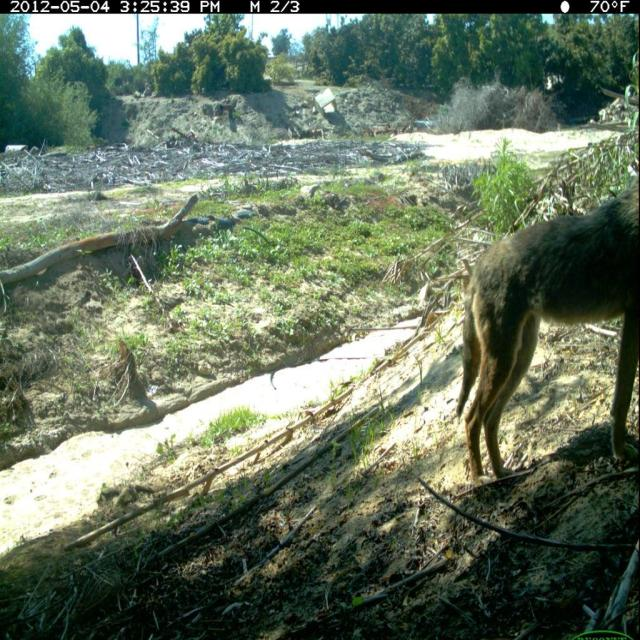coyote: (444, 158, 639, 485)
